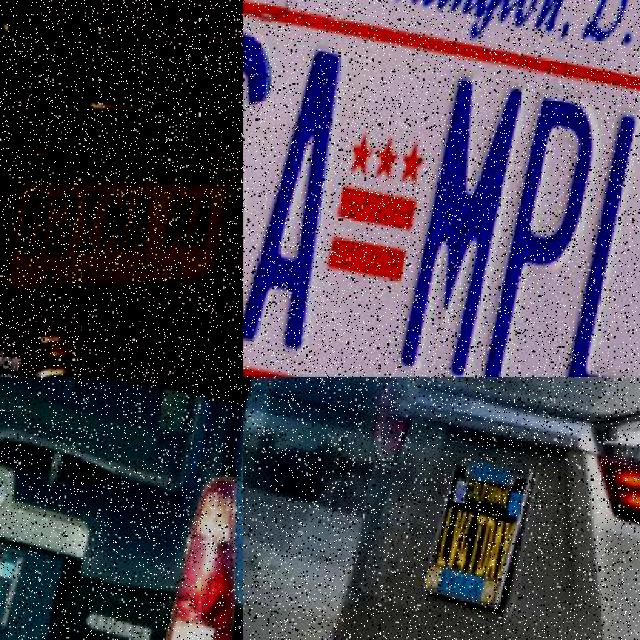licenseplate: (243, 3, 640, 377), (2, 131, 243, 303), (426, 458, 531, 610), (0, 524, 52, 635)
